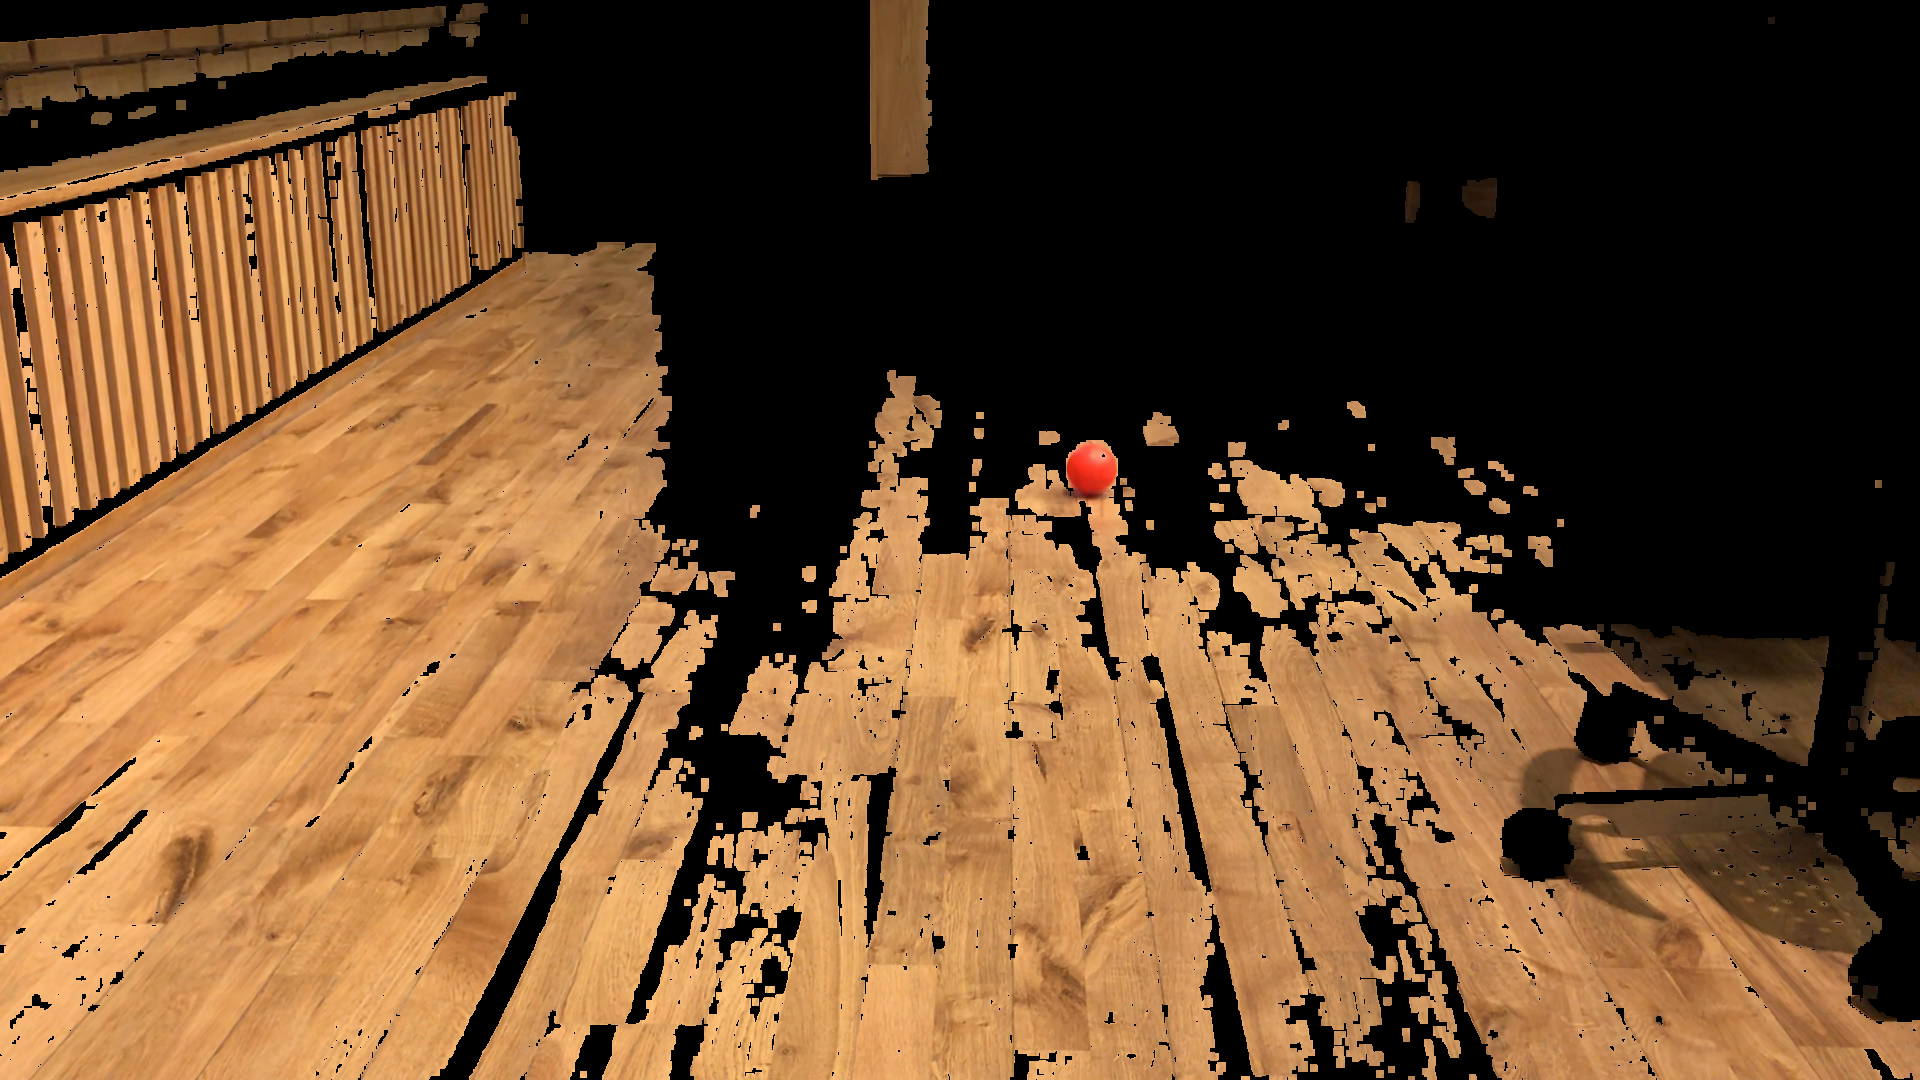Ball: (1065, 446, 1116, 492)
